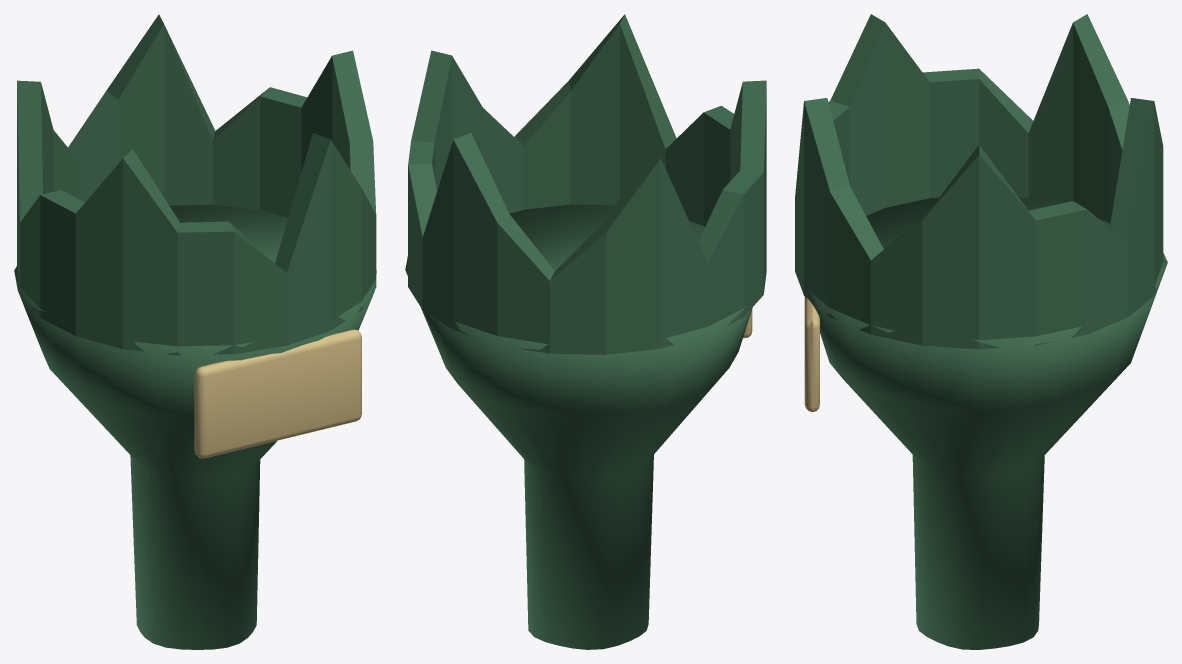
Rendered from broken-bottle.glb.
3 views of the same model, side by side, from view 1: azimuth 30°, elevation 25°; view 2: azimuth 150°, elevation 25°; view 3: azimuth 270°, elevation 25° (orthographic). The views are drawn at different scales.
Visible parts, largest first — view 1: Chipped bottle, Bottle neck, Old bottle label; view 2: Chipped bottle, Bottle neck; view 3: Chipped bottle, Bottle neck, Old bottle label.
Part boxes in pixels (bbox=[...]): Chipped bottle: bbox=[17, 14, 376, 355]; Bottle neck: bbox=[14, 204, 376, 649]; Old bottle label: bbox=[194, 329, 361, 458]; Chipped bottle: bbox=[408, 14, 766, 354]; Bottle neck: bbox=[405, 204, 752, 649]; Chipped bottle: bbox=[795, 14, 1163, 349]; Bottle neck: bbox=[810, 197, 1167, 649]; Old bottle label: bbox=[804, 296, 819, 411].
Bounding box in the file's own units: 0.3614 × 0.59 × 0.3645.
